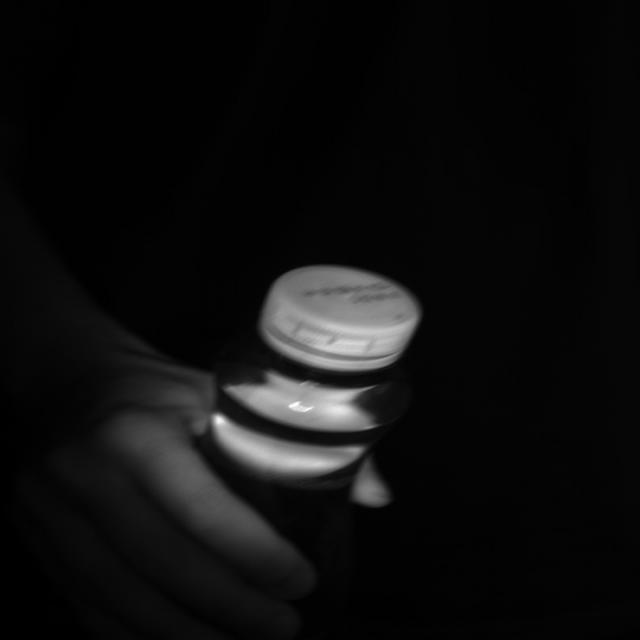Not Good: (254, 264, 421, 376)
